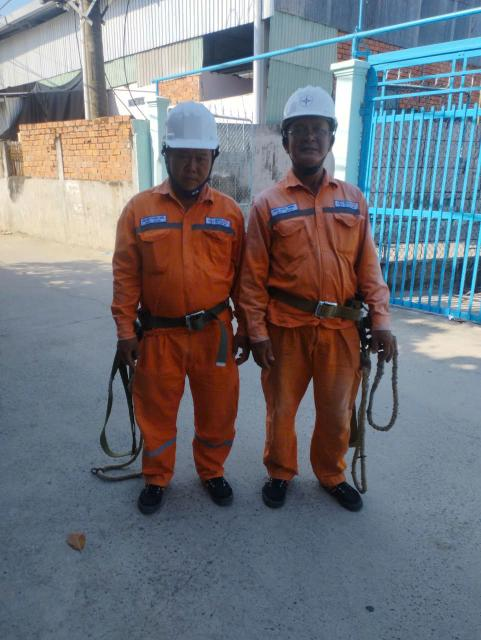harness: (256, 278, 371, 329), (135, 293, 231, 339)
helmet: (149, 88, 225, 163), (276, 72, 343, 129)
shoes: (200, 468, 245, 523), (253, 466, 297, 511), (328, 476, 372, 519), (140, 474, 180, 514)
